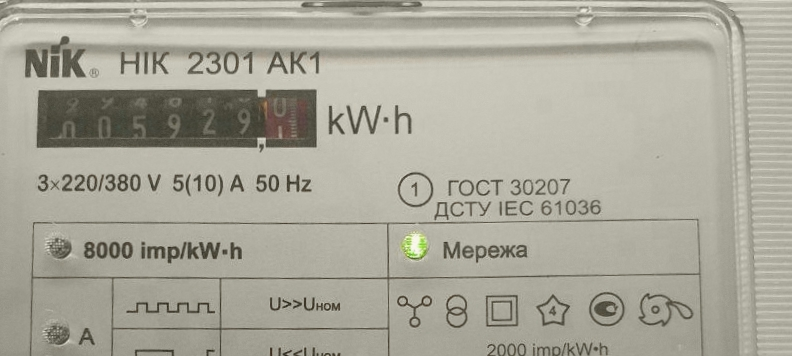0: (94, 113, 114, 141), (57, 115, 79, 139), (270, 95, 289, 119)
2: (198, 105, 218, 138)
5: (129, 112, 148, 140)
9: (162, 110, 184, 140), (234, 105, 254, 138), (62, 95, 80, 114)
screen: (28, 77, 325, 164)
